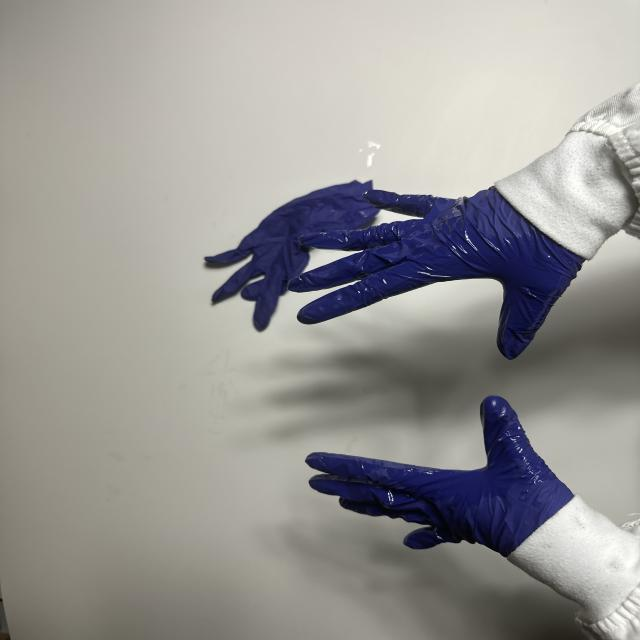gloves_contaminated: (288, 187, 585, 359), (306, 396, 574, 556)
